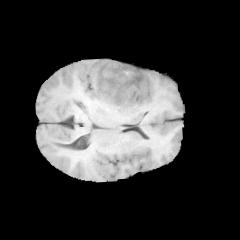glioma: (90, 60, 147, 112)
